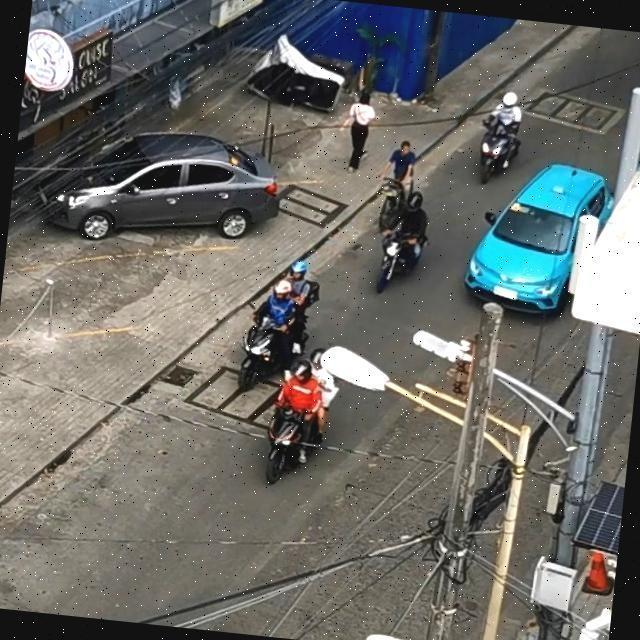Motorcycle: (258, 386, 328, 486), (235, 300, 308, 395), (372, 212, 430, 298), (474, 112, 523, 185)
